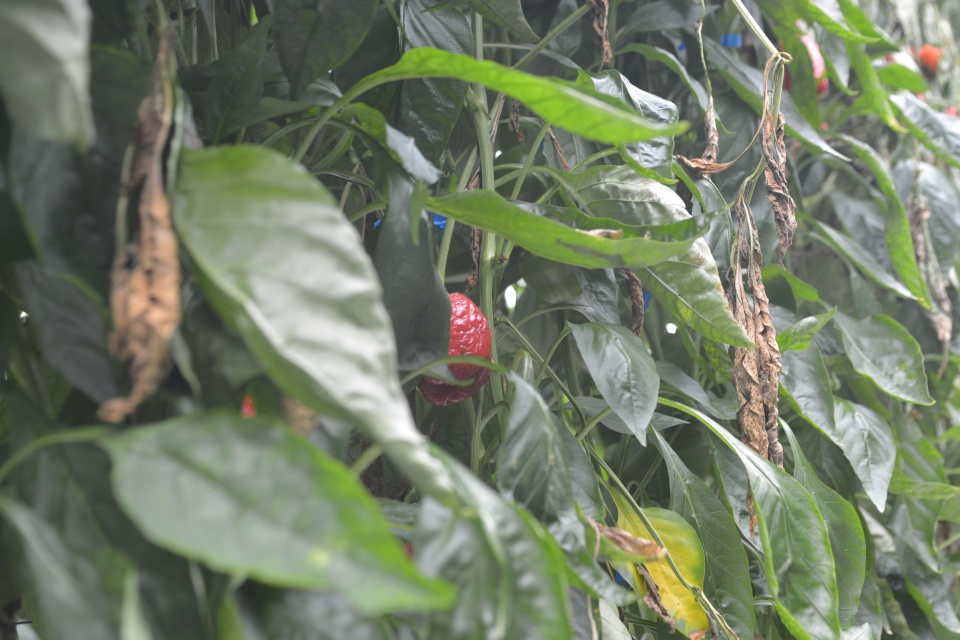fruit: (415, 289, 492, 407)
